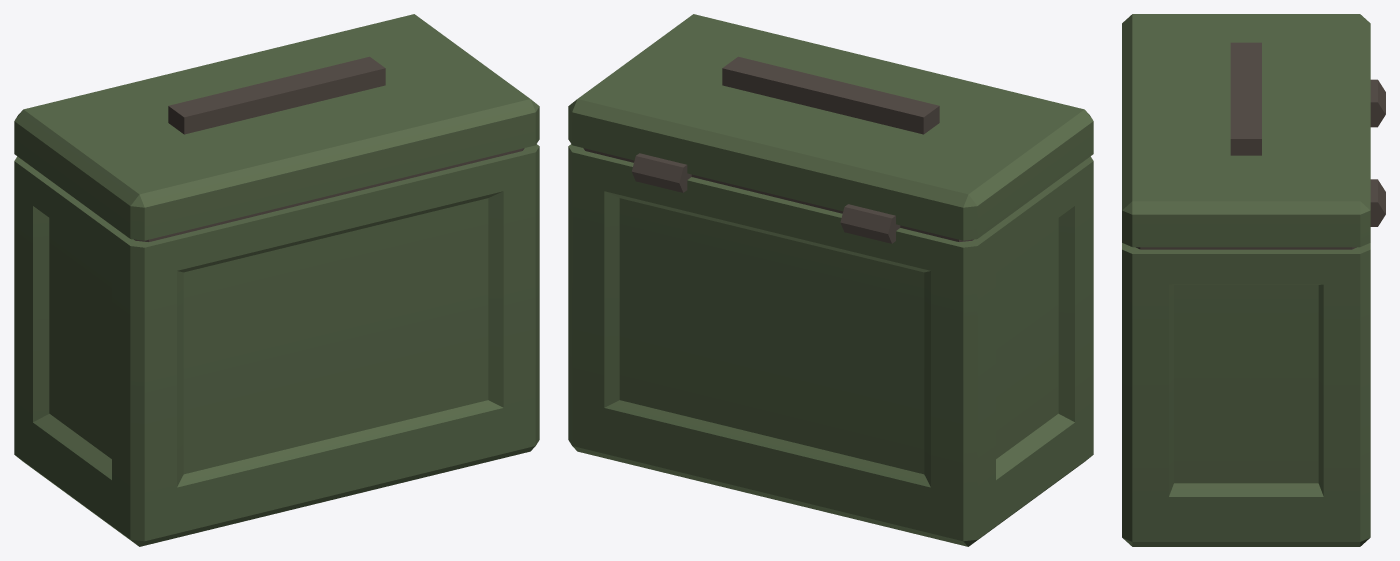
The model's file is AmoBox_02.fbx.
3 views of the same model, side by side, from view 1: azimuth 30°, elevation 25°; view 2: azimuth 150°, elevation 25°; view 3: azimuth 270°, elevation 25° (orthographic).
Parts seen in each view (by area): view 1: AmoBox_02; view 2: AmoBox_02; view 3: AmoBox_02.
Part boxes in pixels (<box>): AmoBox_02: <box>14,14,539,546</box>; AmoBox_02: <box>568,14,1093,546</box>; AmoBox_02: <box>1122,14,1385,546</box>.
Bounding box in the file's own units: 0.3506 × 0.3027 × 0.1995.
